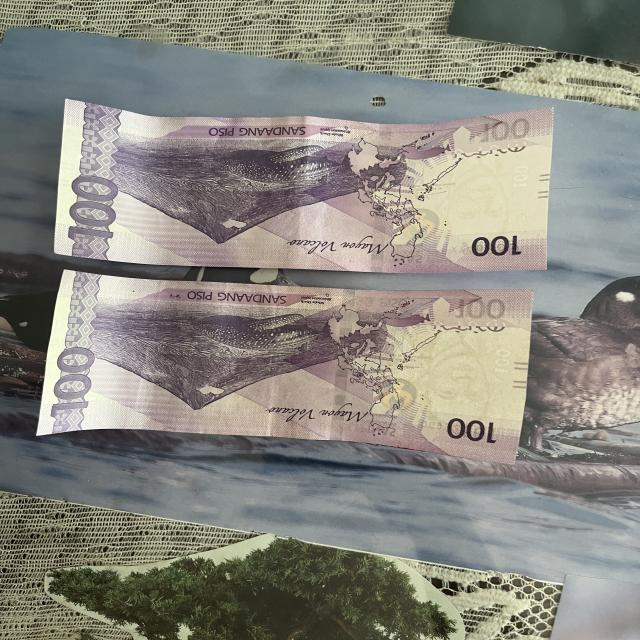100_whale: (198, 134, 376, 200), (174, 302, 346, 365)
100_whale_watermark: (364, 295, 442, 332), (392, 133, 456, 166)
value_watermark: (504, 155, 534, 200), (486, 343, 524, 378)
watermark: (394, 313, 512, 439), (424, 140, 531, 256)
